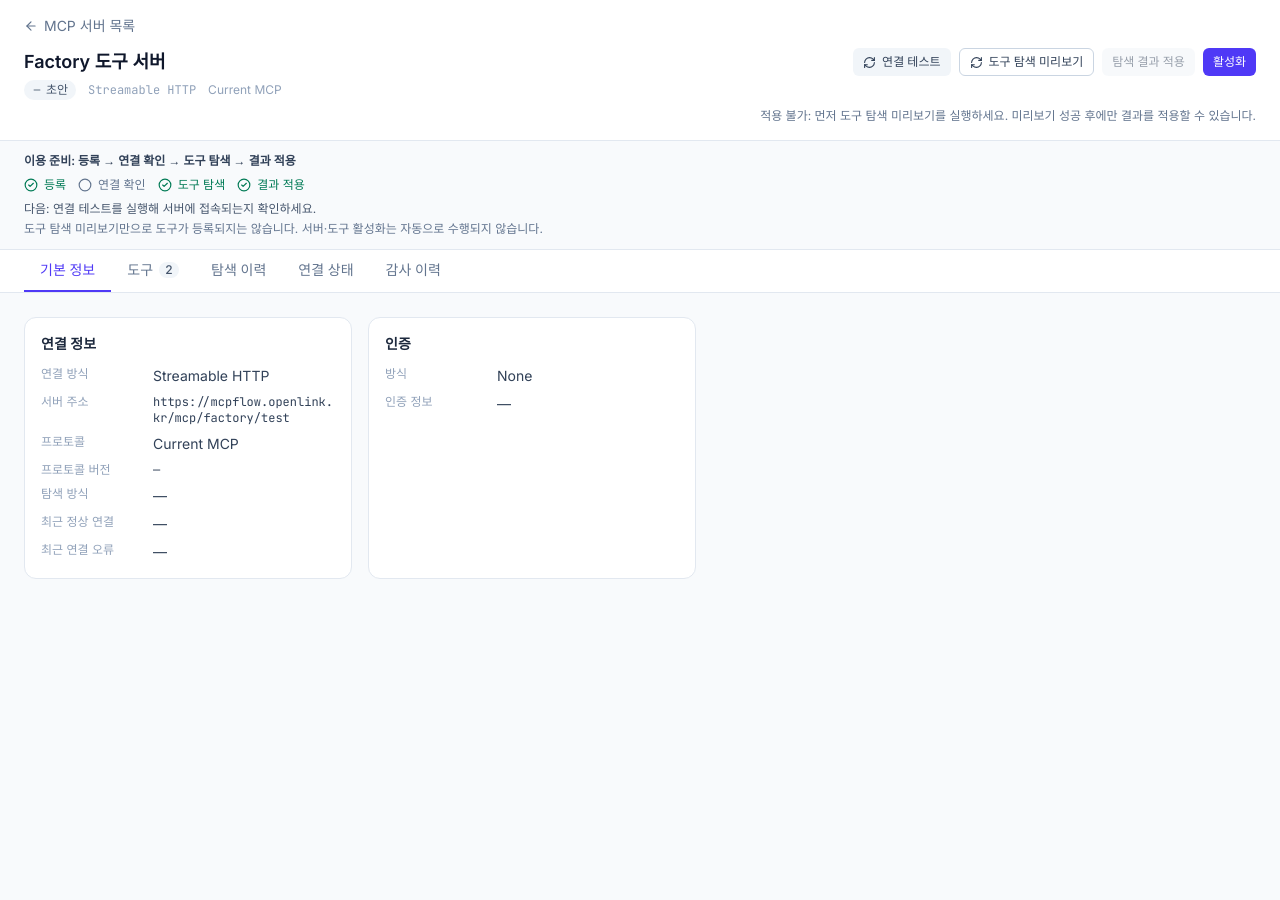
Test: Factory Discovery contract evidence and apply fail-closed › renders MISMATCHED classifications and blocks applying results
expect the heading "Factory 도구 서버" is shown: met, box [24,51,166,72]
Click the button "도구 탐색 미리보기".
click(1026, 62)  # box [958,48,1094,76]
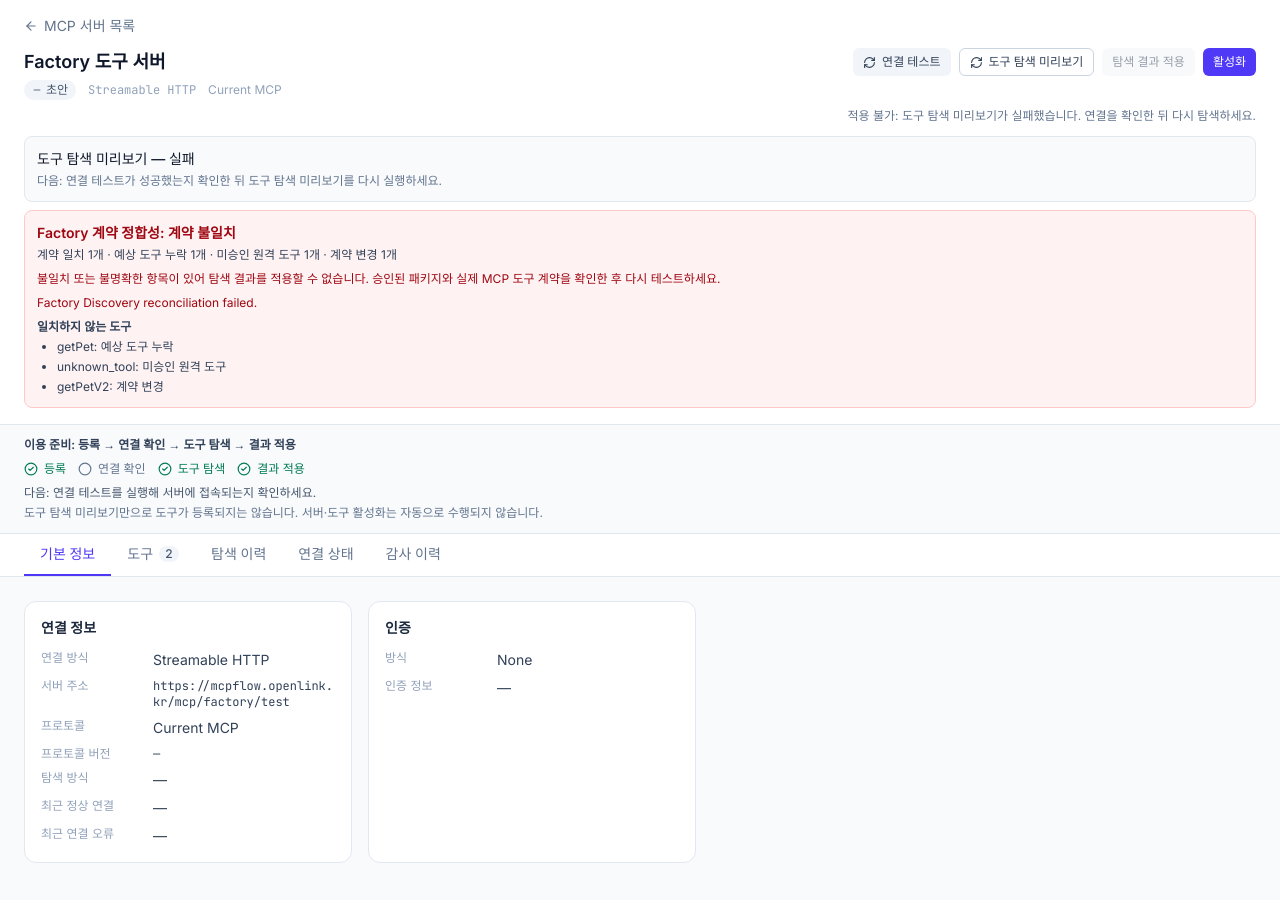
expect the element named "Factory Discovery 계약 정합성" shows "Factory 계약 정합성: 계약 불일치": met, box [37,224,236,241]
expect the element named "Factory Discovery 계약 정합성" shows "getPet: 예상 도구 누락": met, box [24,210,1256,408]
expect the element named "Factory Discovery 계약 정합성" shows "unknown_tool: 미승인 원격 도구": met, box [24,210,1256,408]
